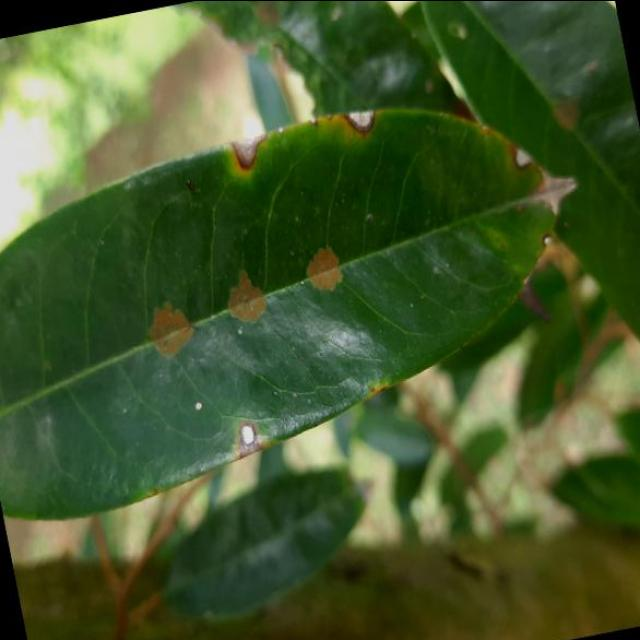Algal Leaf Spot: (0, 56, 628, 538)
